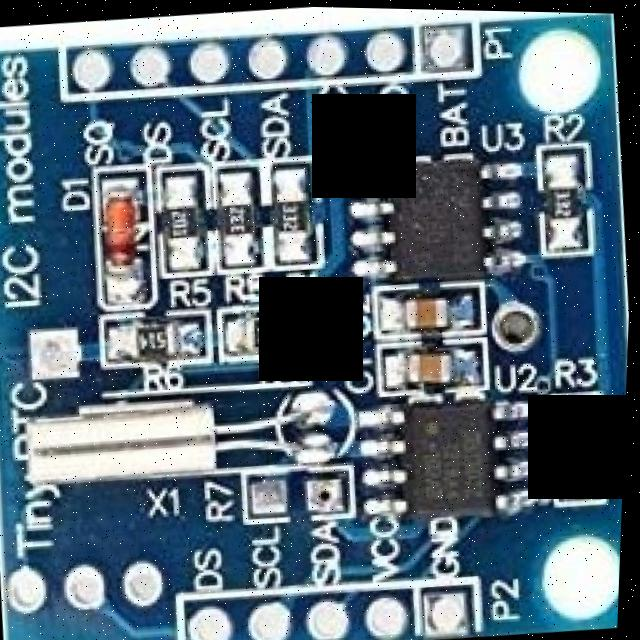IC: (360, 134, 512, 292), (391, 387, 530, 522)
capacitor 1V5: (392, 340, 466, 397), (392, 282, 461, 338)
clock Q1: (12, 377, 334, 496)
diode -D1-: (97, 167, 162, 296)
resistor IR1: (224, 301, 323, 366), (543, 140, 594, 252), (270, 172, 329, 265), (210, 172, 268, 259), (557, 398, 604, 495), (162, 176, 207, 272), (121, 310, 196, 361)
